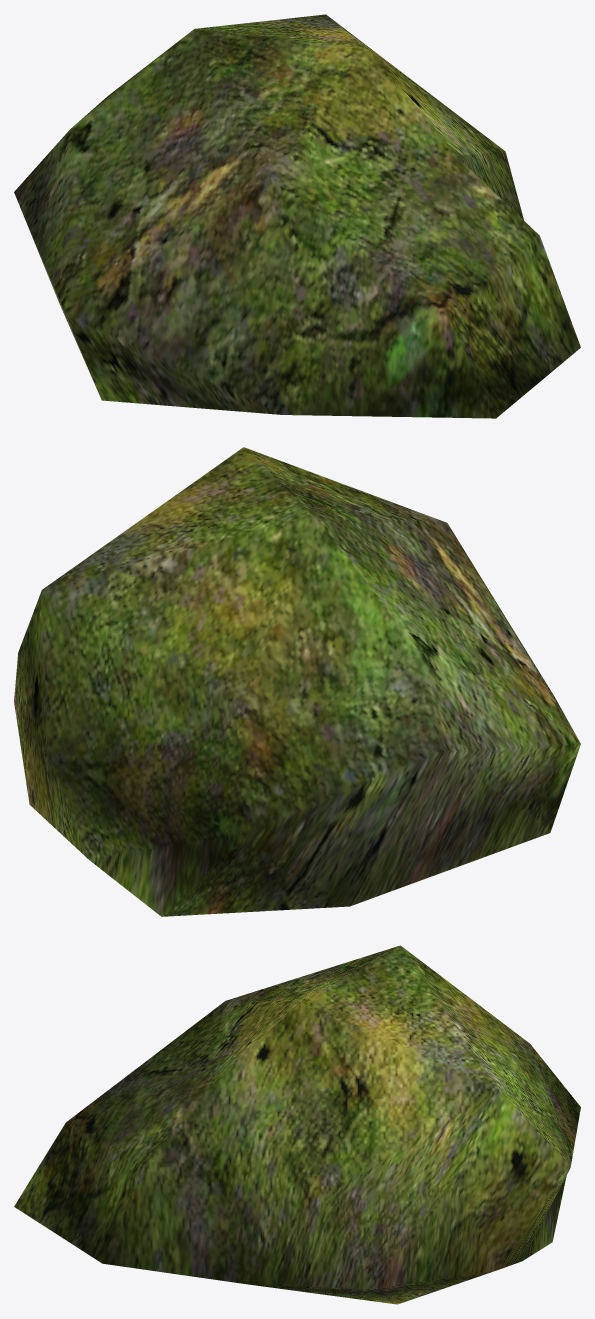
Rendered from rock_endr_mossyrock_m_l2.fbx.
3 renders of one model, top to bottom at view 1: azimuth 30°, elevation 25°; view 2: azimuth 150°, elevation 25°; view 3: azimuth 270°, elevation 25°, orthographic. The views are drawn at different scales.
Parts seen in each view (by area): view 1: mesh_node; view 2: mesh_node; view 3: mesh_node.
Boxes of the visible parts, x1,y1,x2,y2 form: mesh_node: (14, 14, 580, 418); mesh_node: (14, 447, 580, 916); mesh_node: (14, 945, 580, 1304).
Bounding box in the file's own units: 1.32 × 0.8415 × 1.56.
